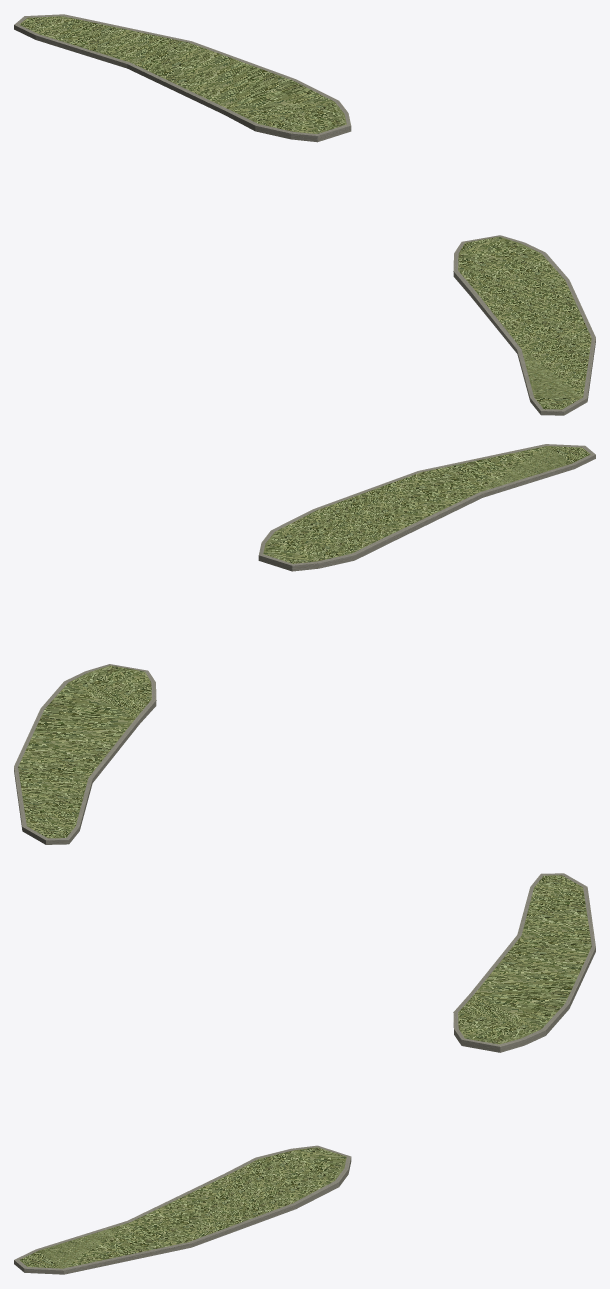
File: lodas_grasect02.obj
3 renders of one model, top to bottom at view 1: azimuth 30°, elevation 25°; view 2: azimuth 150°, elevation 25°; view 3: azimuth 330°, elevation 25°, orthographic.
Parts seen in each view (by area): view 1: lodas_grasect02; view 2: lodas_grasect02; view 3: lodas_grasect02.
Part boxes in pixels (x1,y1,x2,y2): lodas_grasect02: (14,14,595,415); lodas_grasect02: (14,444,595,844); lodas_grasect02: (14,873,595,1274).
Size of the model in its own units: 22.09 by 0.9099 by 125.
3 materials, 3 textured.
